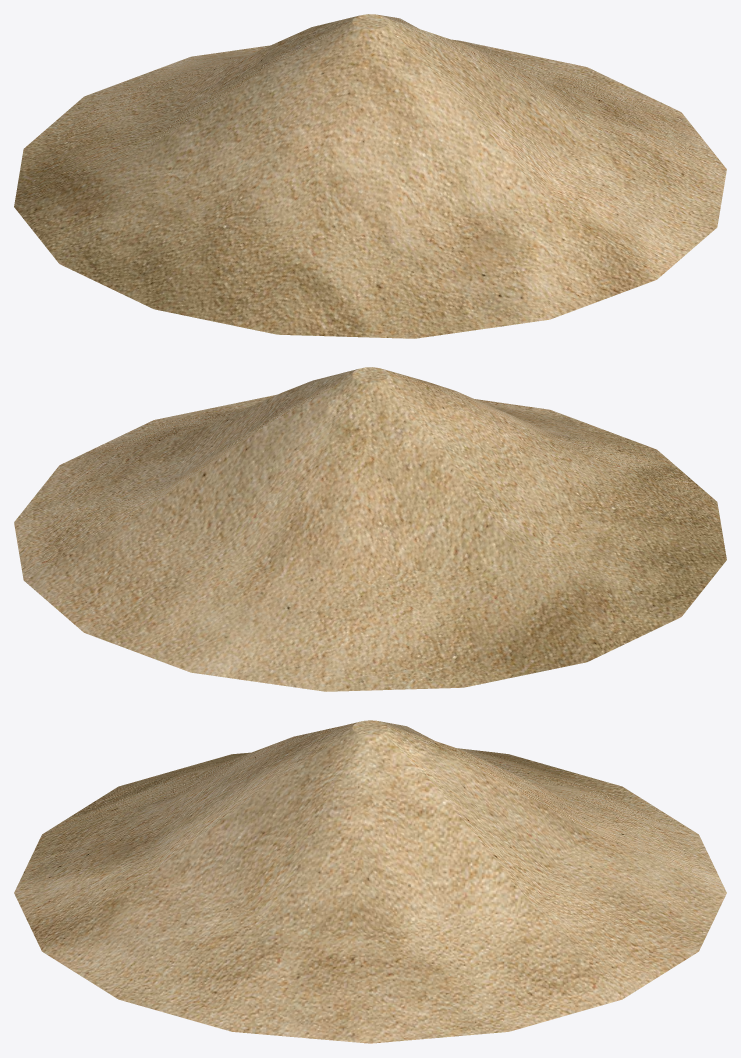
Rendered from sm_sand_001.fbx.
3 renders of one model, top to bottom at view 1: azimuth 30°, elevation 25°; view 2: azimuth 150°, elevation 25°; view 3: azimuth 270°, elevation 25°, orthographic.
Visible parts, largest first — view 1: sm_sand_001; view 2: sm_sand_001; view 3: sm_sand_001.
Boxes of the visible parts, x1=… form: sm_sand_001: x1=14, y1=14, x2=726, y2=338; sm_sand_001: x1=14, y1=367, x2=726, y2=691; sm_sand_001: x1=14, y1=720, x2=726, y2=1043.
Size of the model in its own units: 1.73 by 0.4427 by 1.73.
